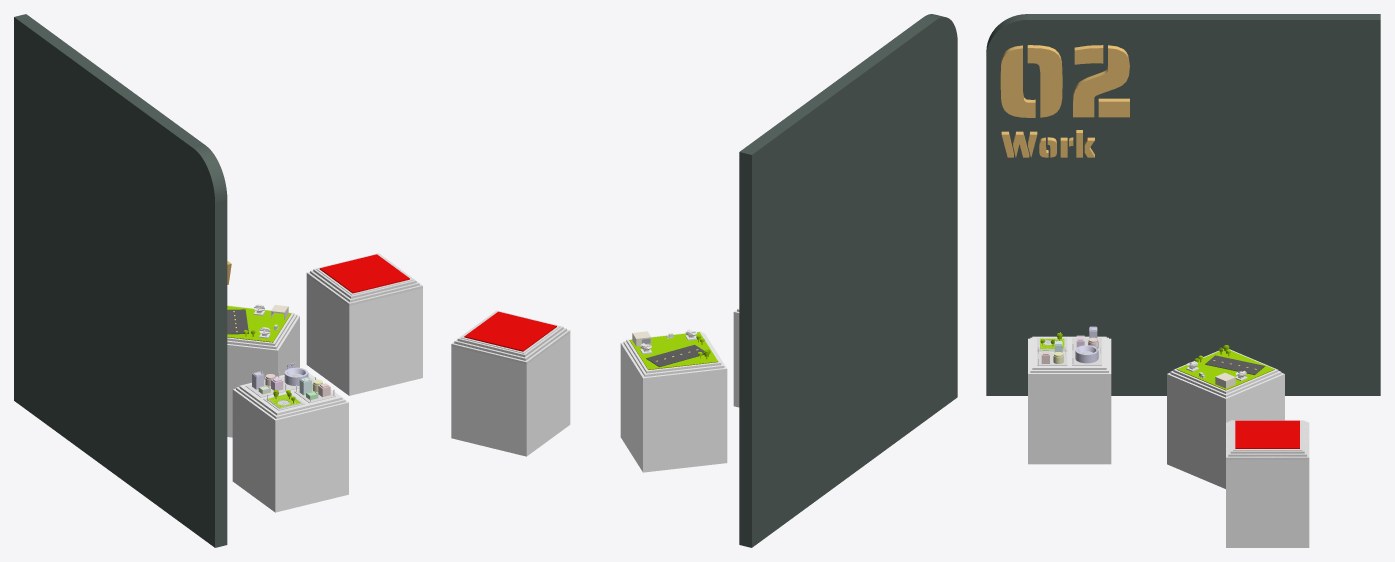
Rendered from maxtower_02.glb.
The picture shows the model from 3 angles, left to right: view 1: azimuth 30°, elevation 25°; view 2: azimuth 150°, elevation 25°; view 3: azimuth 270°, elevation 25°; orthographic projection. The views are drawn at different scales.
Visible parts, largest first — view 1: group_1, group_4, group_76, group_71, group_75, group_52.003, group_11.002, group_74.002, group_60, group_11, group_74; view 2: group_1, group_76, group_71, group_75, group_52.003, group_4, group_60, group_74.002; view 3: group_1, group_4, group_76, group_71, instance_0.003, group_75, instance_0, instance_0.001, group_52.003, group_11.002, instance_0.004, group_60 (+6 smaller).
Part boxes in pixels (left/top/right/bottom): group_1: left=14, top=14, right=227, bottom=547; group_4: left=232, top=392, right=348, bottom=512; group_76: left=306, top=275, right=422, bottom=395; group_71: left=227, top=318, right=299, bottom=437; group_75: left=319, top=254, right=409, bottom=293; group_52.003: left=227, top=306, right=291, bottom=341; group_11.002: left=239, top=372, right=342, bottom=415; group_74.002: left=313, top=253, right=416, bottom=298; group_60: left=227, top=309, right=248, bottom=334; group_11: left=232, top=388, right=348, bottom=422; group_74: left=306, top=272, right=422, bottom=305; group_1: left=739, top=14, right=957, bottom=547; group_76: left=451, top=333, right=570, bottom=456; group_71: left=620, top=345, right=727, bottom=472; group_75: left=464, top=311, right=556, bottom=351; group_52.003: left=629, top=332, right=717, bottom=369; group_4: left=733, top=314, right=739, bottom=407; group_60: left=646, top=344, right=704, bottom=367; group_74.002: left=457, top=310, right=563, bottom=357; group_1: left=986, top=14, right=1380, bottom=395; group_4: left=1028, top=376, right=1111, bottom=464; group_76: left=1226, top=459, right=1309, bottom=547; group_71: left=1167, top=376, right=1284, bottom=488; instance_0.003: left=1073, top=45, right=1129, bottom=117; group_75: left=1235, top=420, right=1299, bottom=448; instance_0: left=1027, top=45, right=1062, bottom=117; instance_0.001: left=1000, top=45, right=1035, bottom=117; group_52.003: left=1177, top=349, right=1274, bottom=389; group_11.002: left=1032, top=336, right=1106, bottom=369; instance_0.004: left=1098, top=98, right=1129, bottom=117; group_60: left=1205, top=355, right=1264, bottom=374.
Size of the model in its own units: 2.74 by 3.05 by 2.9.
